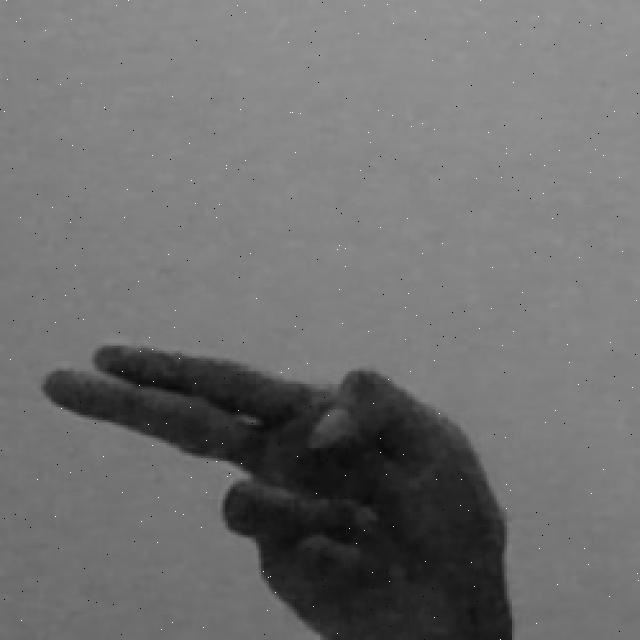H: (33, 330, 520, 640)
